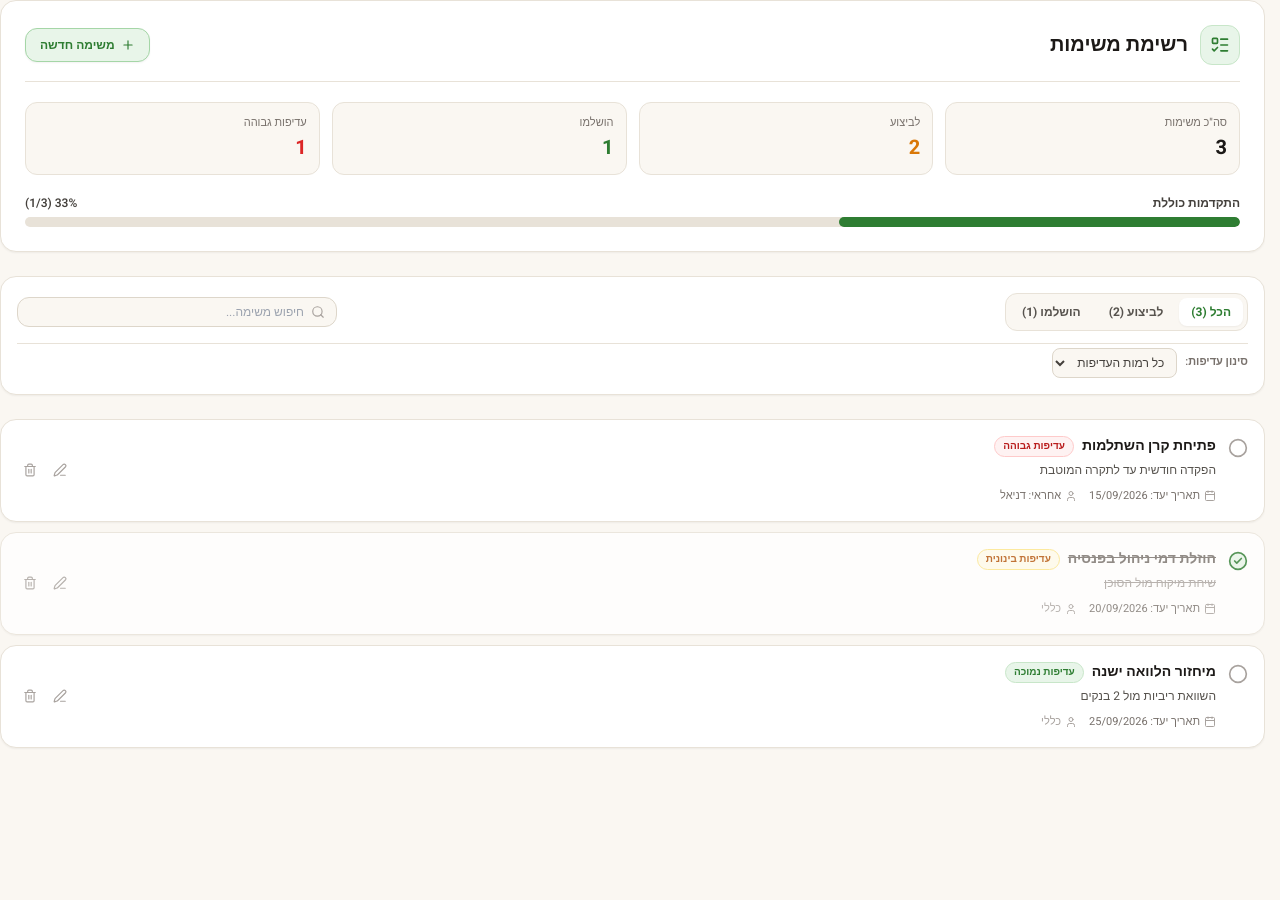
Test: FinancialTaskList Component › filters tasks by status: all, pending, completed
Click Pending filter
Click the button "לביצוע (2)" at (1136, 312), box [1097,298,1175,326]
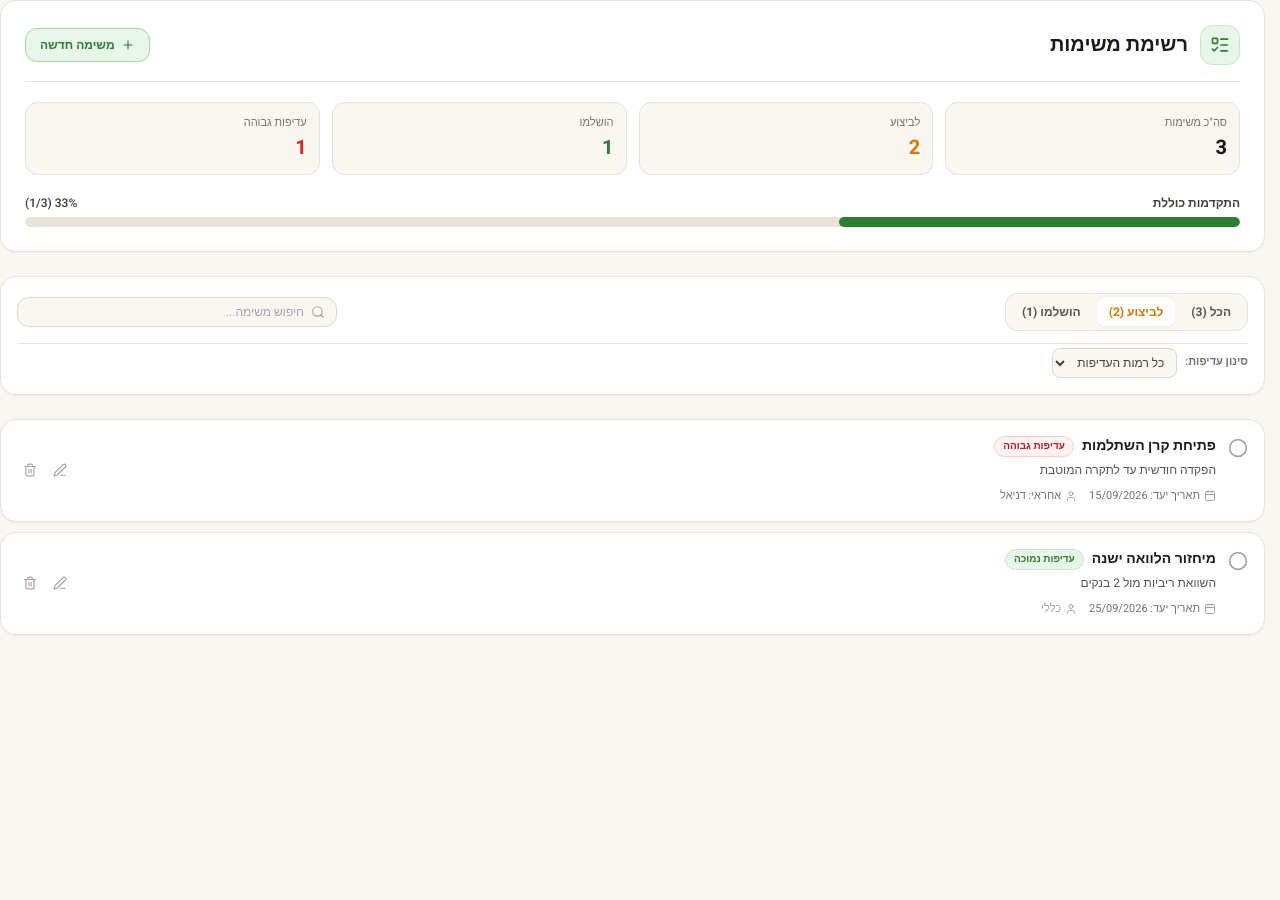
Expected: the heading "פתיחת קרן השתלמות" is shown, [1082,437,1216,455]
Expected: the heading "הוזלת דמי ניהול בפנסיה" is gone
Click Completed filter
Click the button "הושלמו (1)" at (1051, 312), box [1010,298,1093,326]
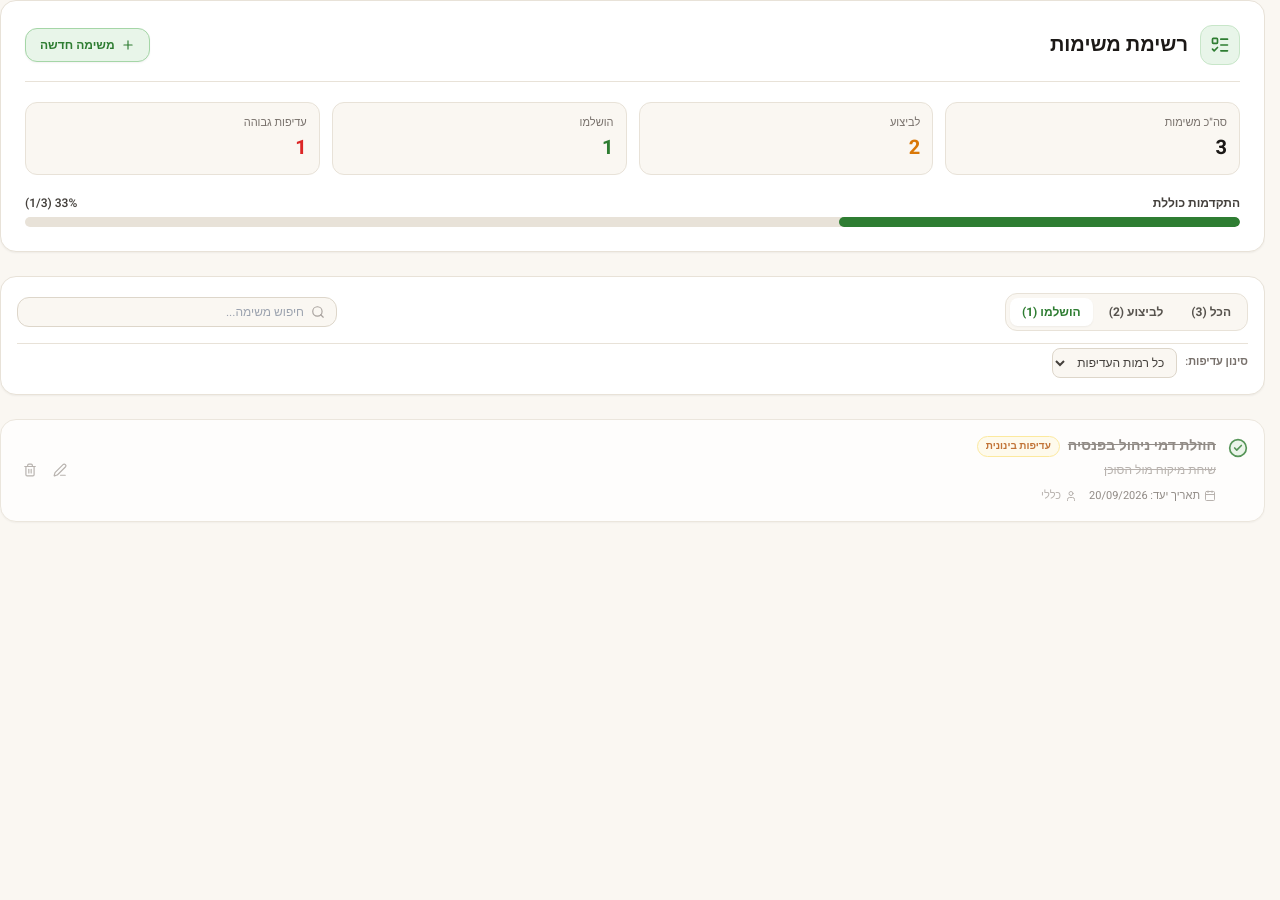
Expected: the heading "הוזלת דמי ניהול בפנסיה" is shown, [1068,437,1216,455]
Expected: the heading "פתיחת קרן השתלמות" is gone
Expected: the heading "מיחזור הלוואה ישנה" is gone
